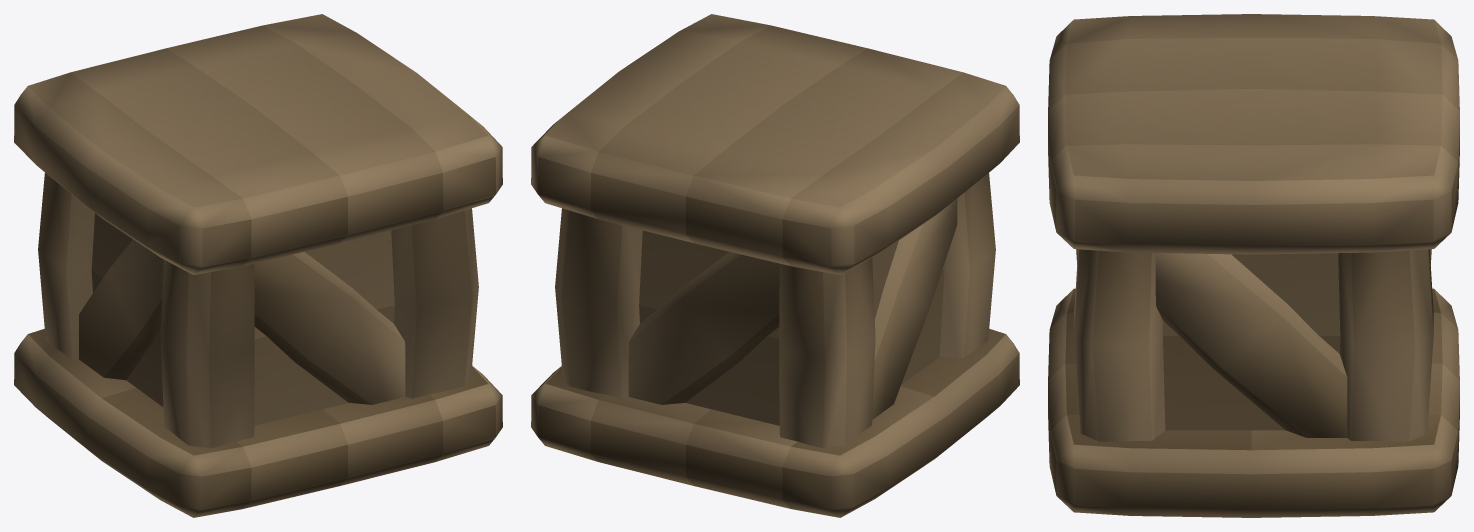
File: box_small_1.fbx
The picture shows the model from 3 angles, left to right: view 1: azimuth 30°, elevation 25°; view 2: azimuth 150°, elevation 25°; view 3: azimuth 270°, elevation 25°; orthographic projection. The views are drawn at different scales.
Parts seen in each view (by area): view 1: box_small_1; view 2: box_small_1; view 3: box_small_1.
Part boxes in pixels (x1,y1,x2,y2): box_small_1: (14, 14, 502, 517); box_small_1: (531, 14, 1019, 517); box_small_1: (1048, 14, 1459, 517).
Size of the model in its own units: 99 by 86.82 by 94.58.
